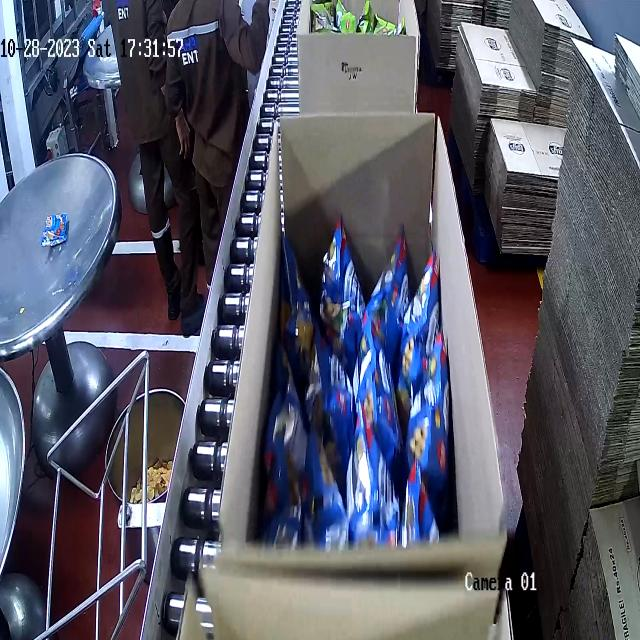PAPRIKA: (263, 214, 451, 552)
